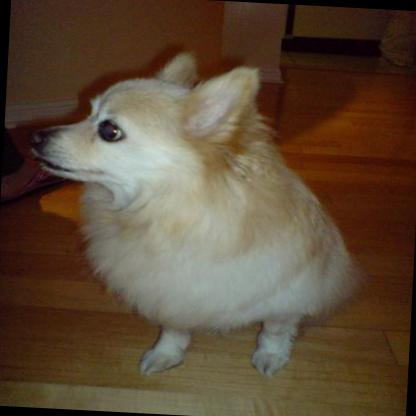Pomeranian: (13, 41, 364, 388)
